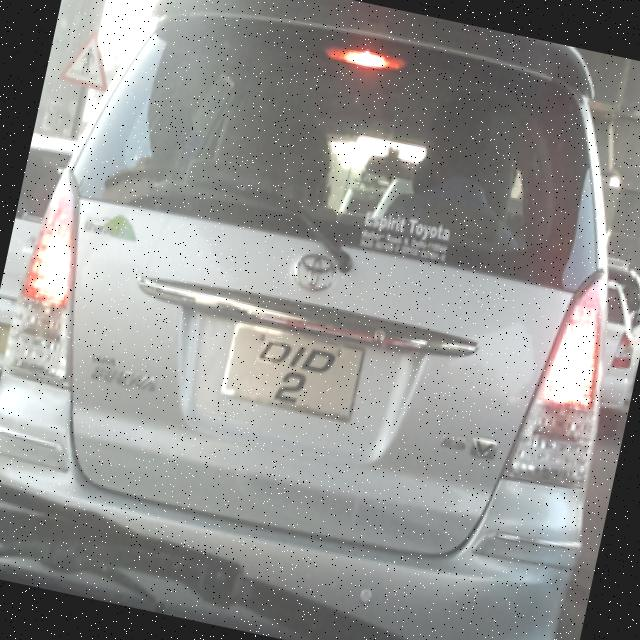Autre: (218, 309, 354, 423)
